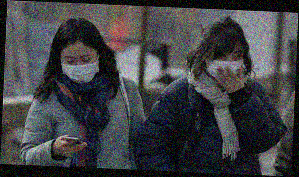with_mask: (206, 48, 245, 82), (60, 51, 99, 82)
